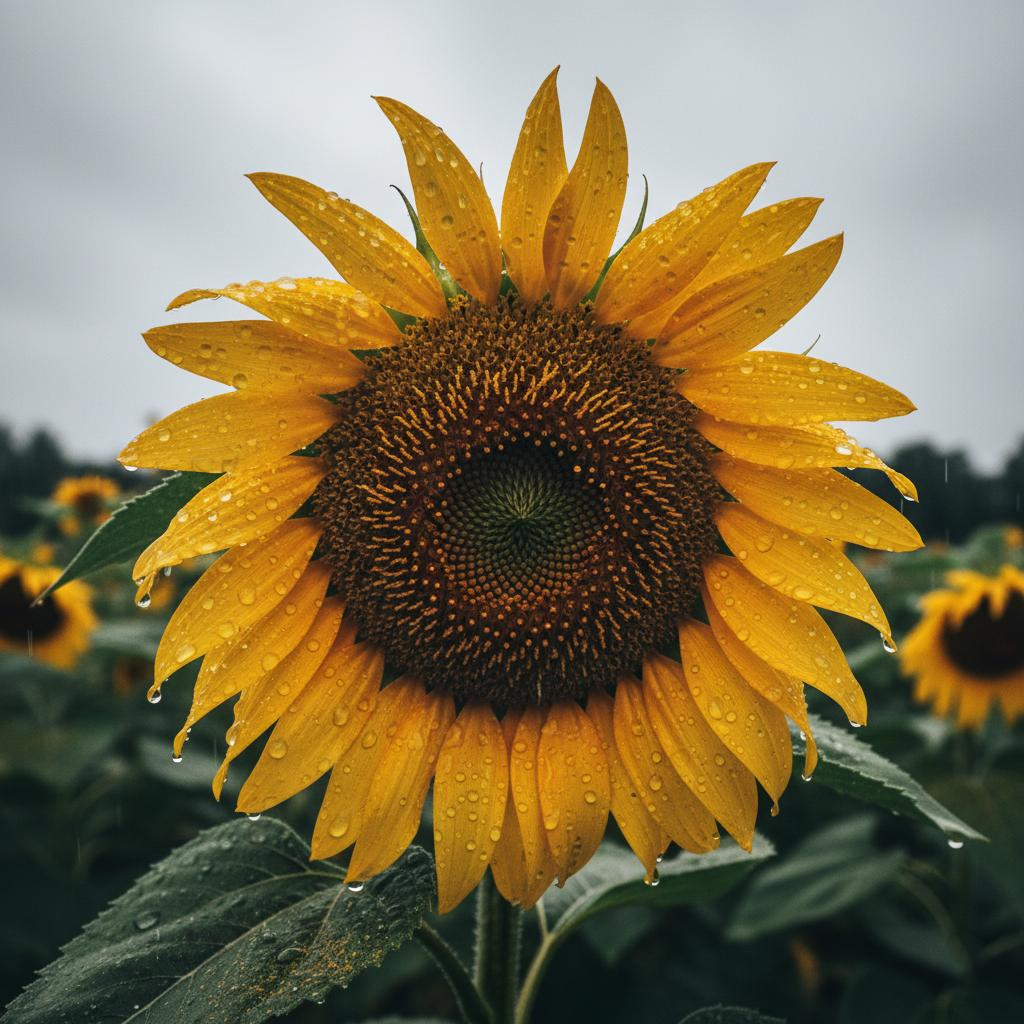sunflower: (116, 63, 925, 916)
